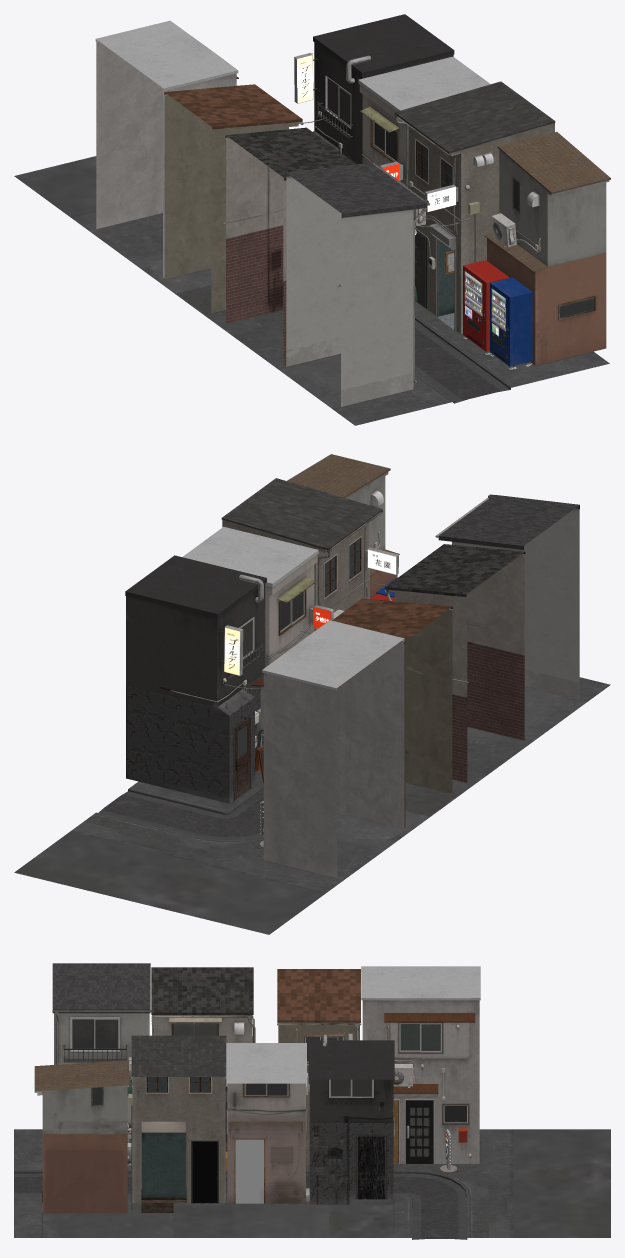
Rendered from night-lane.glb.
3 views of the same model, one above another, from view 1: azimuth 30°, elevation 25°; view 2: azimuth 150°, elevation 25°; view 3: azimuth 270°, elevation 25° (orthographic). The views are drawn at different scales.
Parts seen in each view (by area): view 1: Dining street Build_A_1, Dining street ground, Dining street Build_E, Dining street Build_D_1, Dining street Build_F_1, Dining street Build_C_1, Dining street Build_B_1, Dining street Build_H_1, Dining street Build_G_1, Dining street Props_10, Dining street Build_F_2, Dining street Props_08 (+5 smaller); view 2: Dining street ground, Dining street Build_D_1, Dining street Build_H_1, Dining street Build_B_1, Dining street Build_A_1, Dining street Build_C_1, Dining street Build_F_1, Dining street Build_G_1, Dining street Build_E, Dining street Props_08, Dining street Build_1; view 3: Dining street ground, Dining street Build_H_1, Dining street Build_E, Dining street Build_G_1, Dining street Build_D_1, Dining street Build_F_1, Dining street Build_A_1, Dining street Build_B_1, Dining street Build_C_1, Dining street Build_F_2, Dining street Build_D_2, Dining street Build_1 (+5 smaller).
Part boxes in pixels (x1=…): Dining street Build_A_1: x1=285, y1=162, x2=427, y2=406; Dining street ground: x1=14, y1=129, x2=609, y2=425; Dining street Build_E: x1=485, y1=132, x2=610, y2=365; Dining street Build_D_1: x1=95, y1=20, x2=238, y2=277; Dining street Build_F_1: x1=394, y1=81, x2=555, y2=333; Dining street Build_C_1: x1=164, y1=84, x2=302, y2=313; Dining street Build_B_1: x1=225, y1=127, x2=356, y2=366; Dining street Build_H_1: x1=313, y1=14, x2=454, y2=164; Dining street Build_G_1: x1=358, y1=56, x2=490, y2=184; Dining street Props_10: x1=463, y1=260, x2=532, y2=369; Dining street Build_F_2: x1=394, y1=114, x2=476, y2=329; Dining street Props_08: x1=294, y1=53, x2=458, y2=212; Dining street ground: x1=14, y1=677, x2=610, y2=934; Dining street Build_D_1: x1=262, y1=620, x2=404, y2=877; Dining street Build_H_1: x1=125, y1=555, x2=266, y2=803; Dining street Build_B_1: x1=385, y1=544, x2=525, y2=782; Dining street Build_A_1: x1=438, y1=495, x2=579, y2=699; Dining street Build_C_1: x1=332, y1=598, x2=452, y2=827; Dining street Build_F_1: x1=221, y1=478, x2=382, y2=630; Dining street Build_G_1: x1=182, y1=527, x2=318, y2=667; Dining street Build_E: x1=287, y1=454, x2=399, y2=598; Dining street Props_08: x1=220, y1=547, x2=398, y2=675; Dining street Build_1: x1=235, y1=717, x2=250, y2=799; Dining street ground: x1=14, y1=1129, x2=610, y2=1239; Dining street Build_H_1: x1=308, y1=1040, x2=394, y2=1204; Dining street Build_E: x1=34, y1=1060, x2=128, y2=1213; Dining street Build_G_1: x1=226, y1=1043, x2=306, y2=1203; Dining street Build_D_1: x1=361, y1=966, x2=480, y2=1164; Dining street Build_F_1: x1=131, y1=1035, x2=226, y2=1203; Dining street Build_A_1: x1=52, y1=963, x2=150, y2=1142; Dining street Build_B_1: x1=151, y1=967, x2=253, y2=1151; Dining street Build_C_1: x1=277, y1=969, x2=360, y2=1165; Dining street Build_F_2: x1=131, y1=1037, x2=226, y2=1212; Dining street Build_D_2: x1=384, y1=1013, x2=475, y2=1096; Dining street Build_1: x1=393, y1=1100, x2=433, y2=1163.
Bounding box in the file's own units: 7.26 × 5.08 × 16.04.
Materials: 31 (31 with a texture image).
